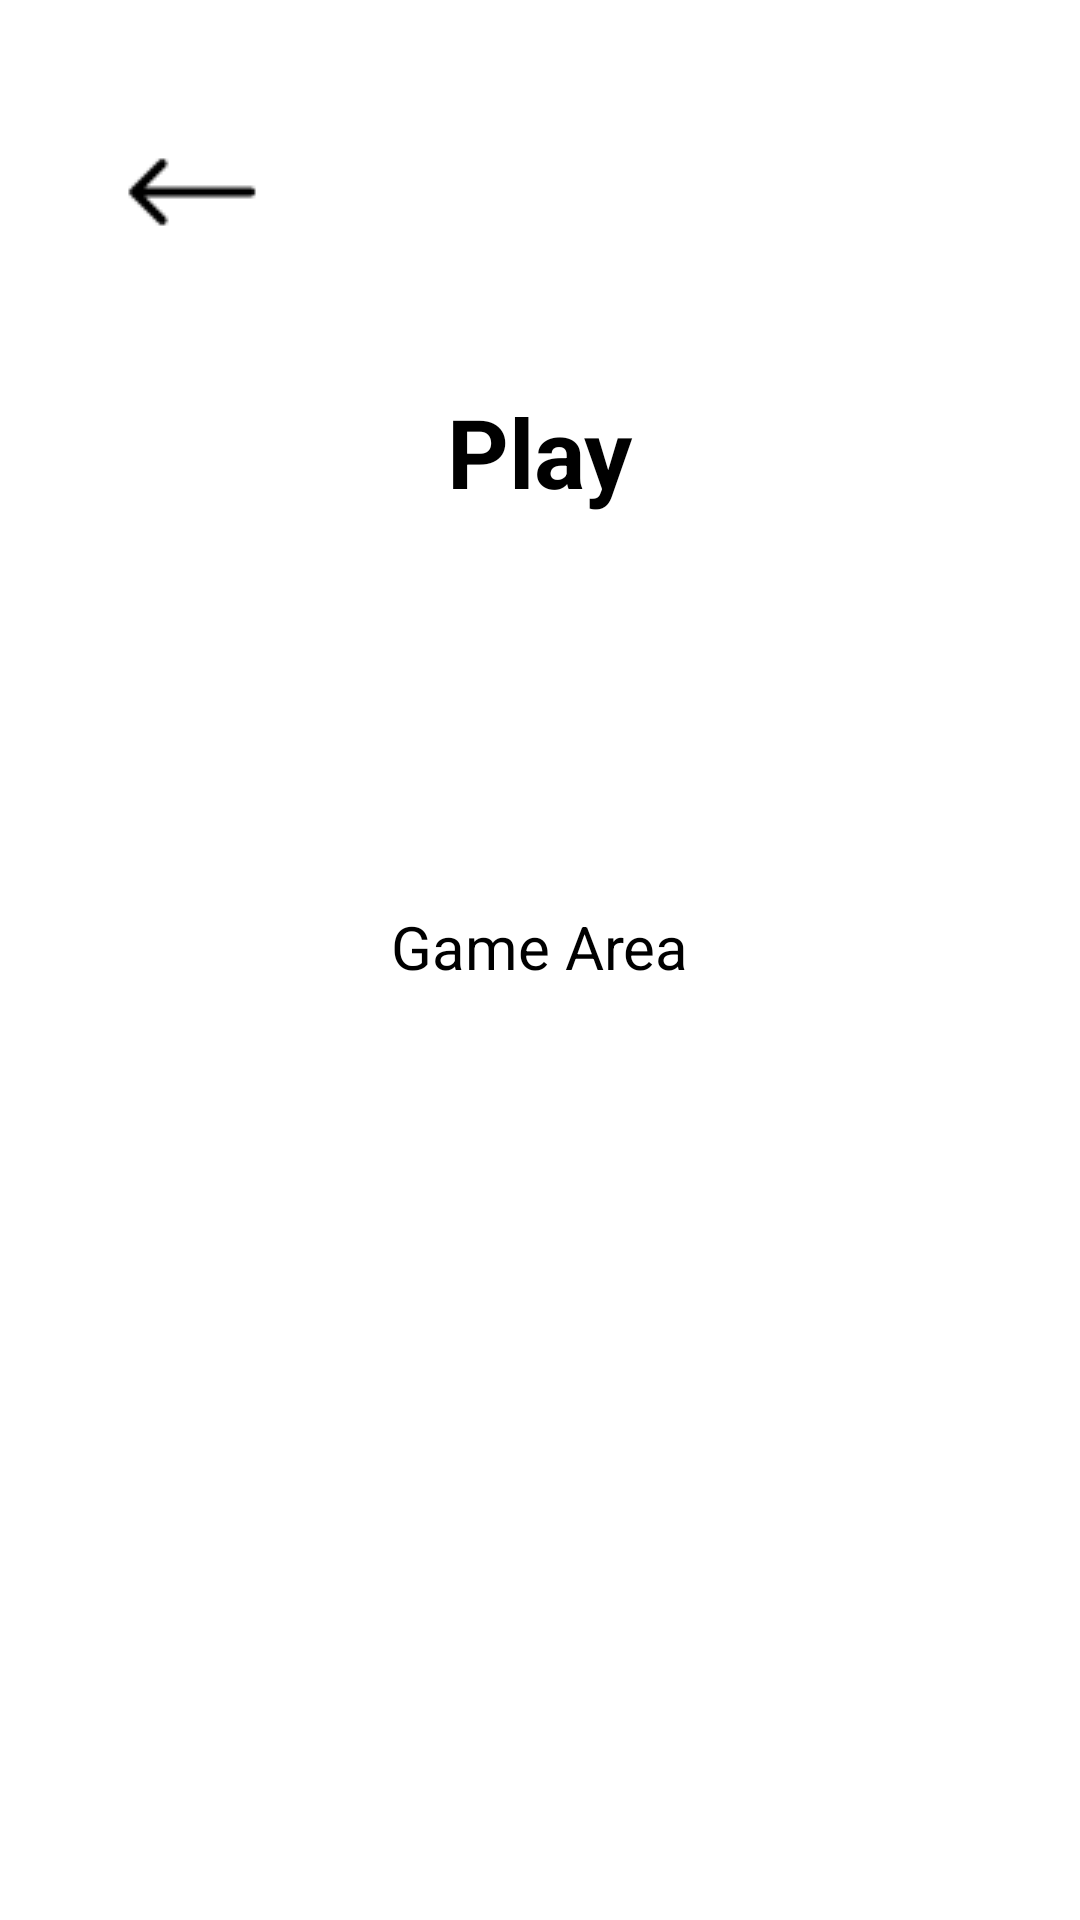

Where icons sit on this 1080px x 1920px app screen, as (x1, y1, x2, y2):
back: (128, 158, 256, 226)
